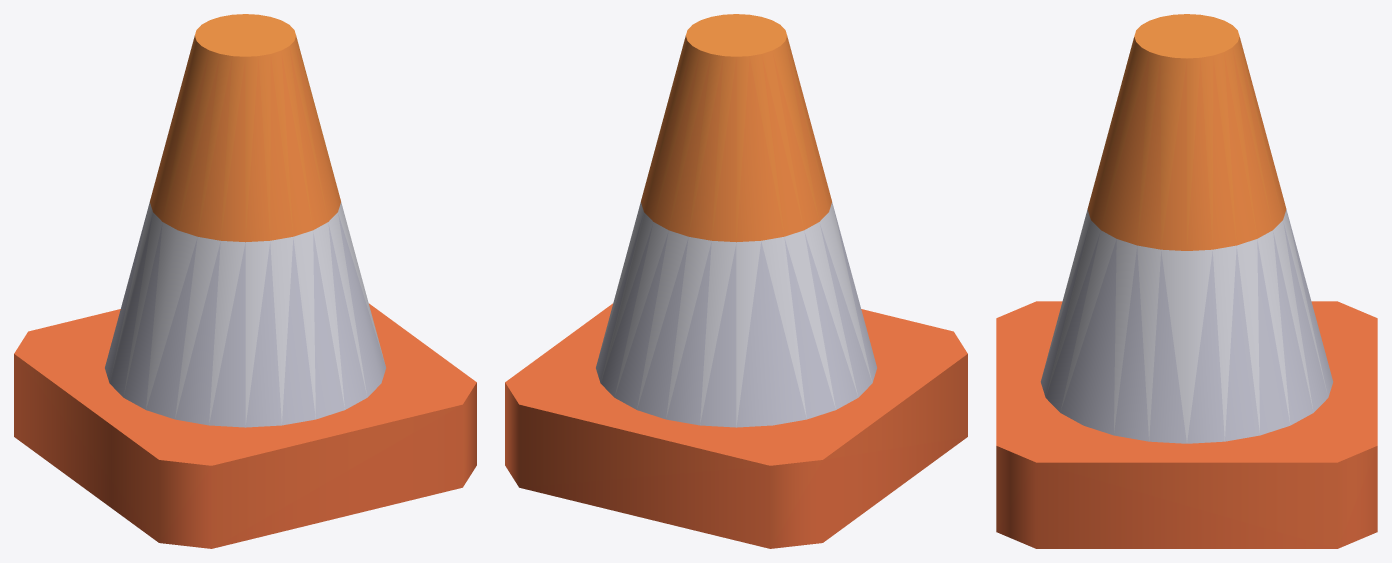
The picture shows the model from 3 angles, left to right: view 1: azimuth 30°, elevation 25°; view 2: azimuth 150°, elevation 25°; view 3: azimuth 270°, elevation 25°; orthographic projection. The views are drawn at different scales.
Parts seen in each view (by area): view 1: cone; view 2: cone; view 3: cone.
Boxes of the visible parts, box(x1,y1,x2,y2) form: cone: box(14, 14, 476, 548); cone: box(505, 14, 967, 548); cone: box(996, 14, 1377, 548).
Bounding box in the file's own units: 0.528 × 0.66 × 0.528.
